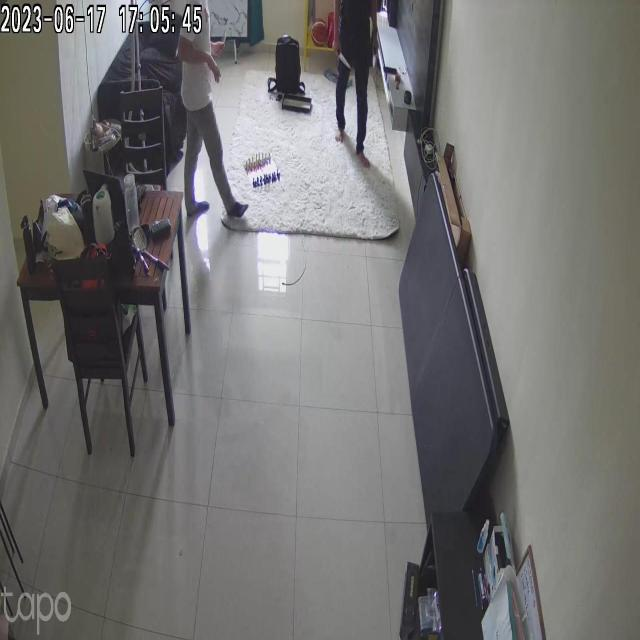Knife: (332, 37, 361, 80)
